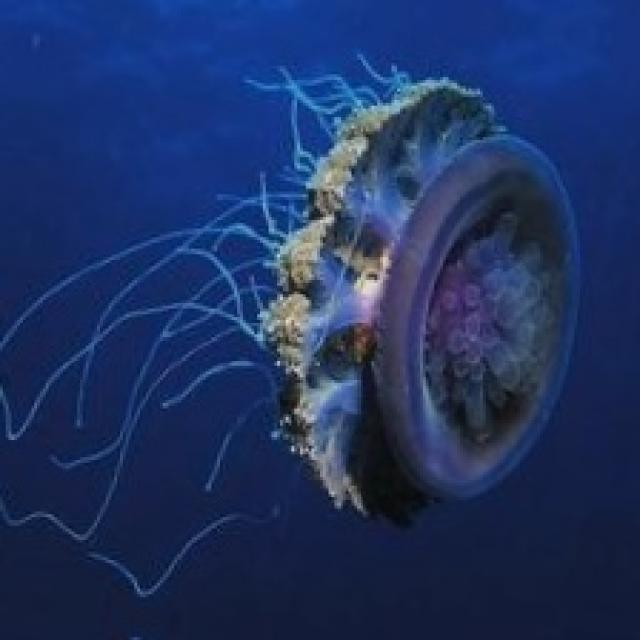Jellyfish: (0, 49, 583, 597)
